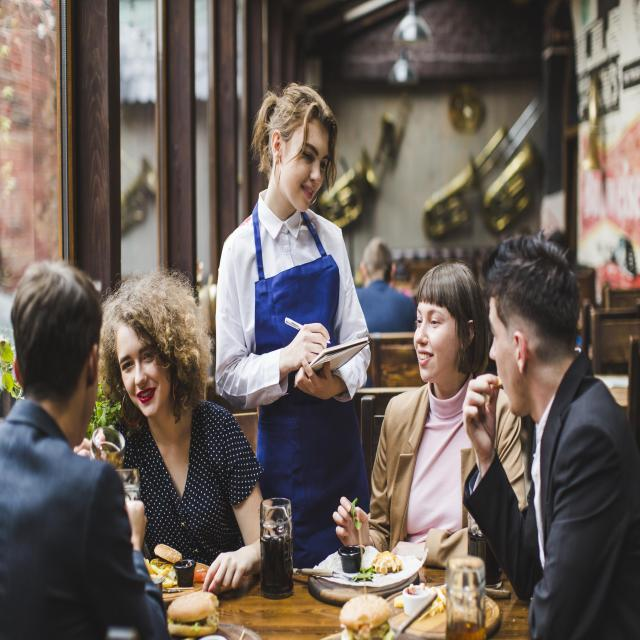person: (235, 69, 376, 575), (491, 233, 640, 640), (101, 276, 273, 586), (0, 254, 116, 640), (376, 259, 507, 593)
